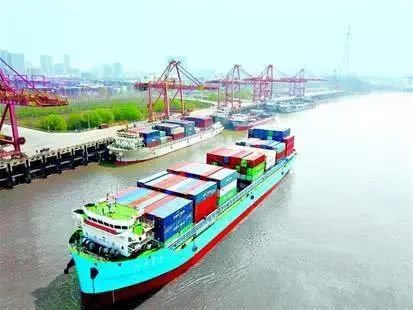Cargoship: (66, 122, 299, 307), (99, 105, 224, 166), (229, 105, 276, 132)
